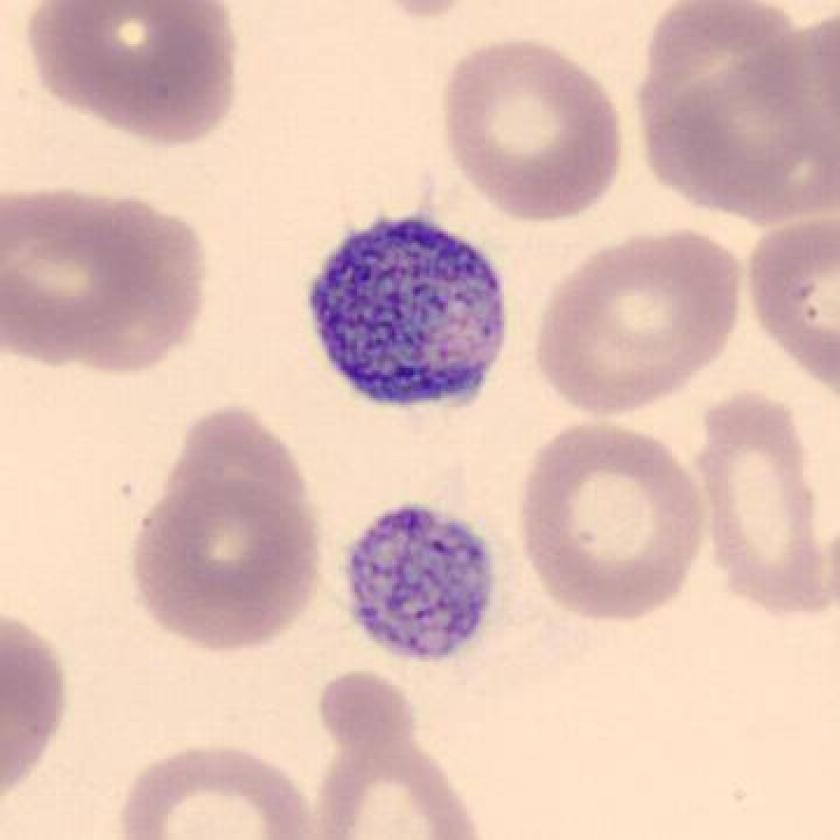platelets: (302, 205, 519, 422), (342, 487, 510, 672)
